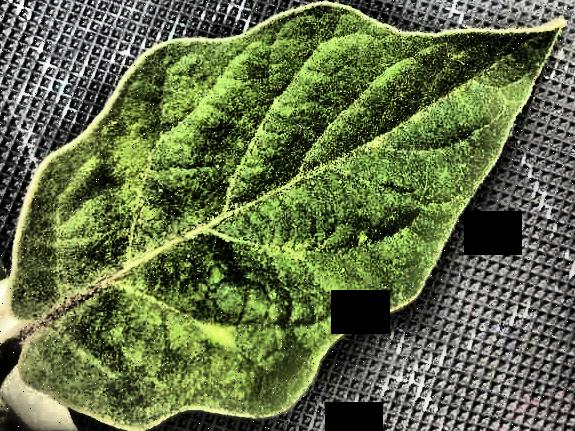HEALTHY: (1, 1, 575, 431)
